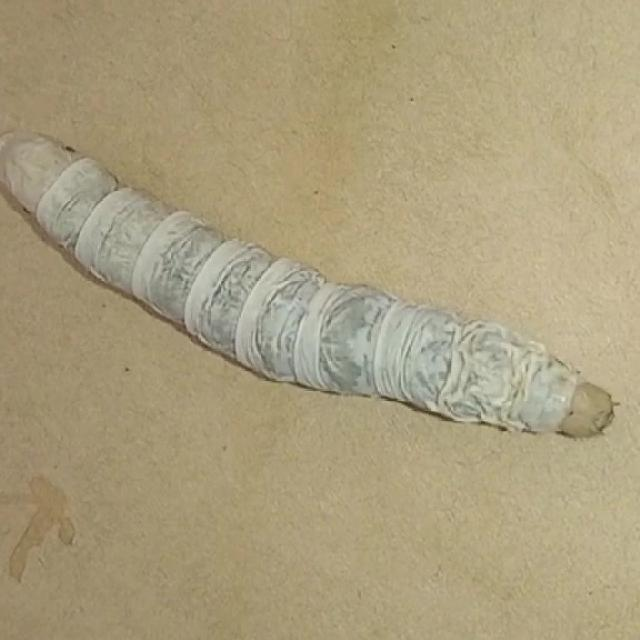Grasserie: (2, 105, 624, 478)
